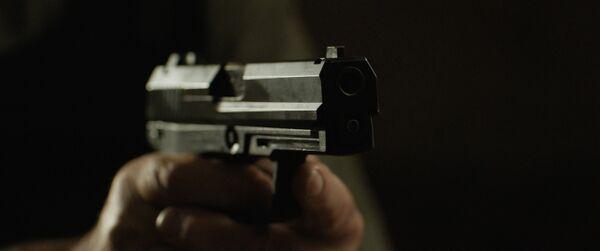Gun: (144, 51, 377, 156)
